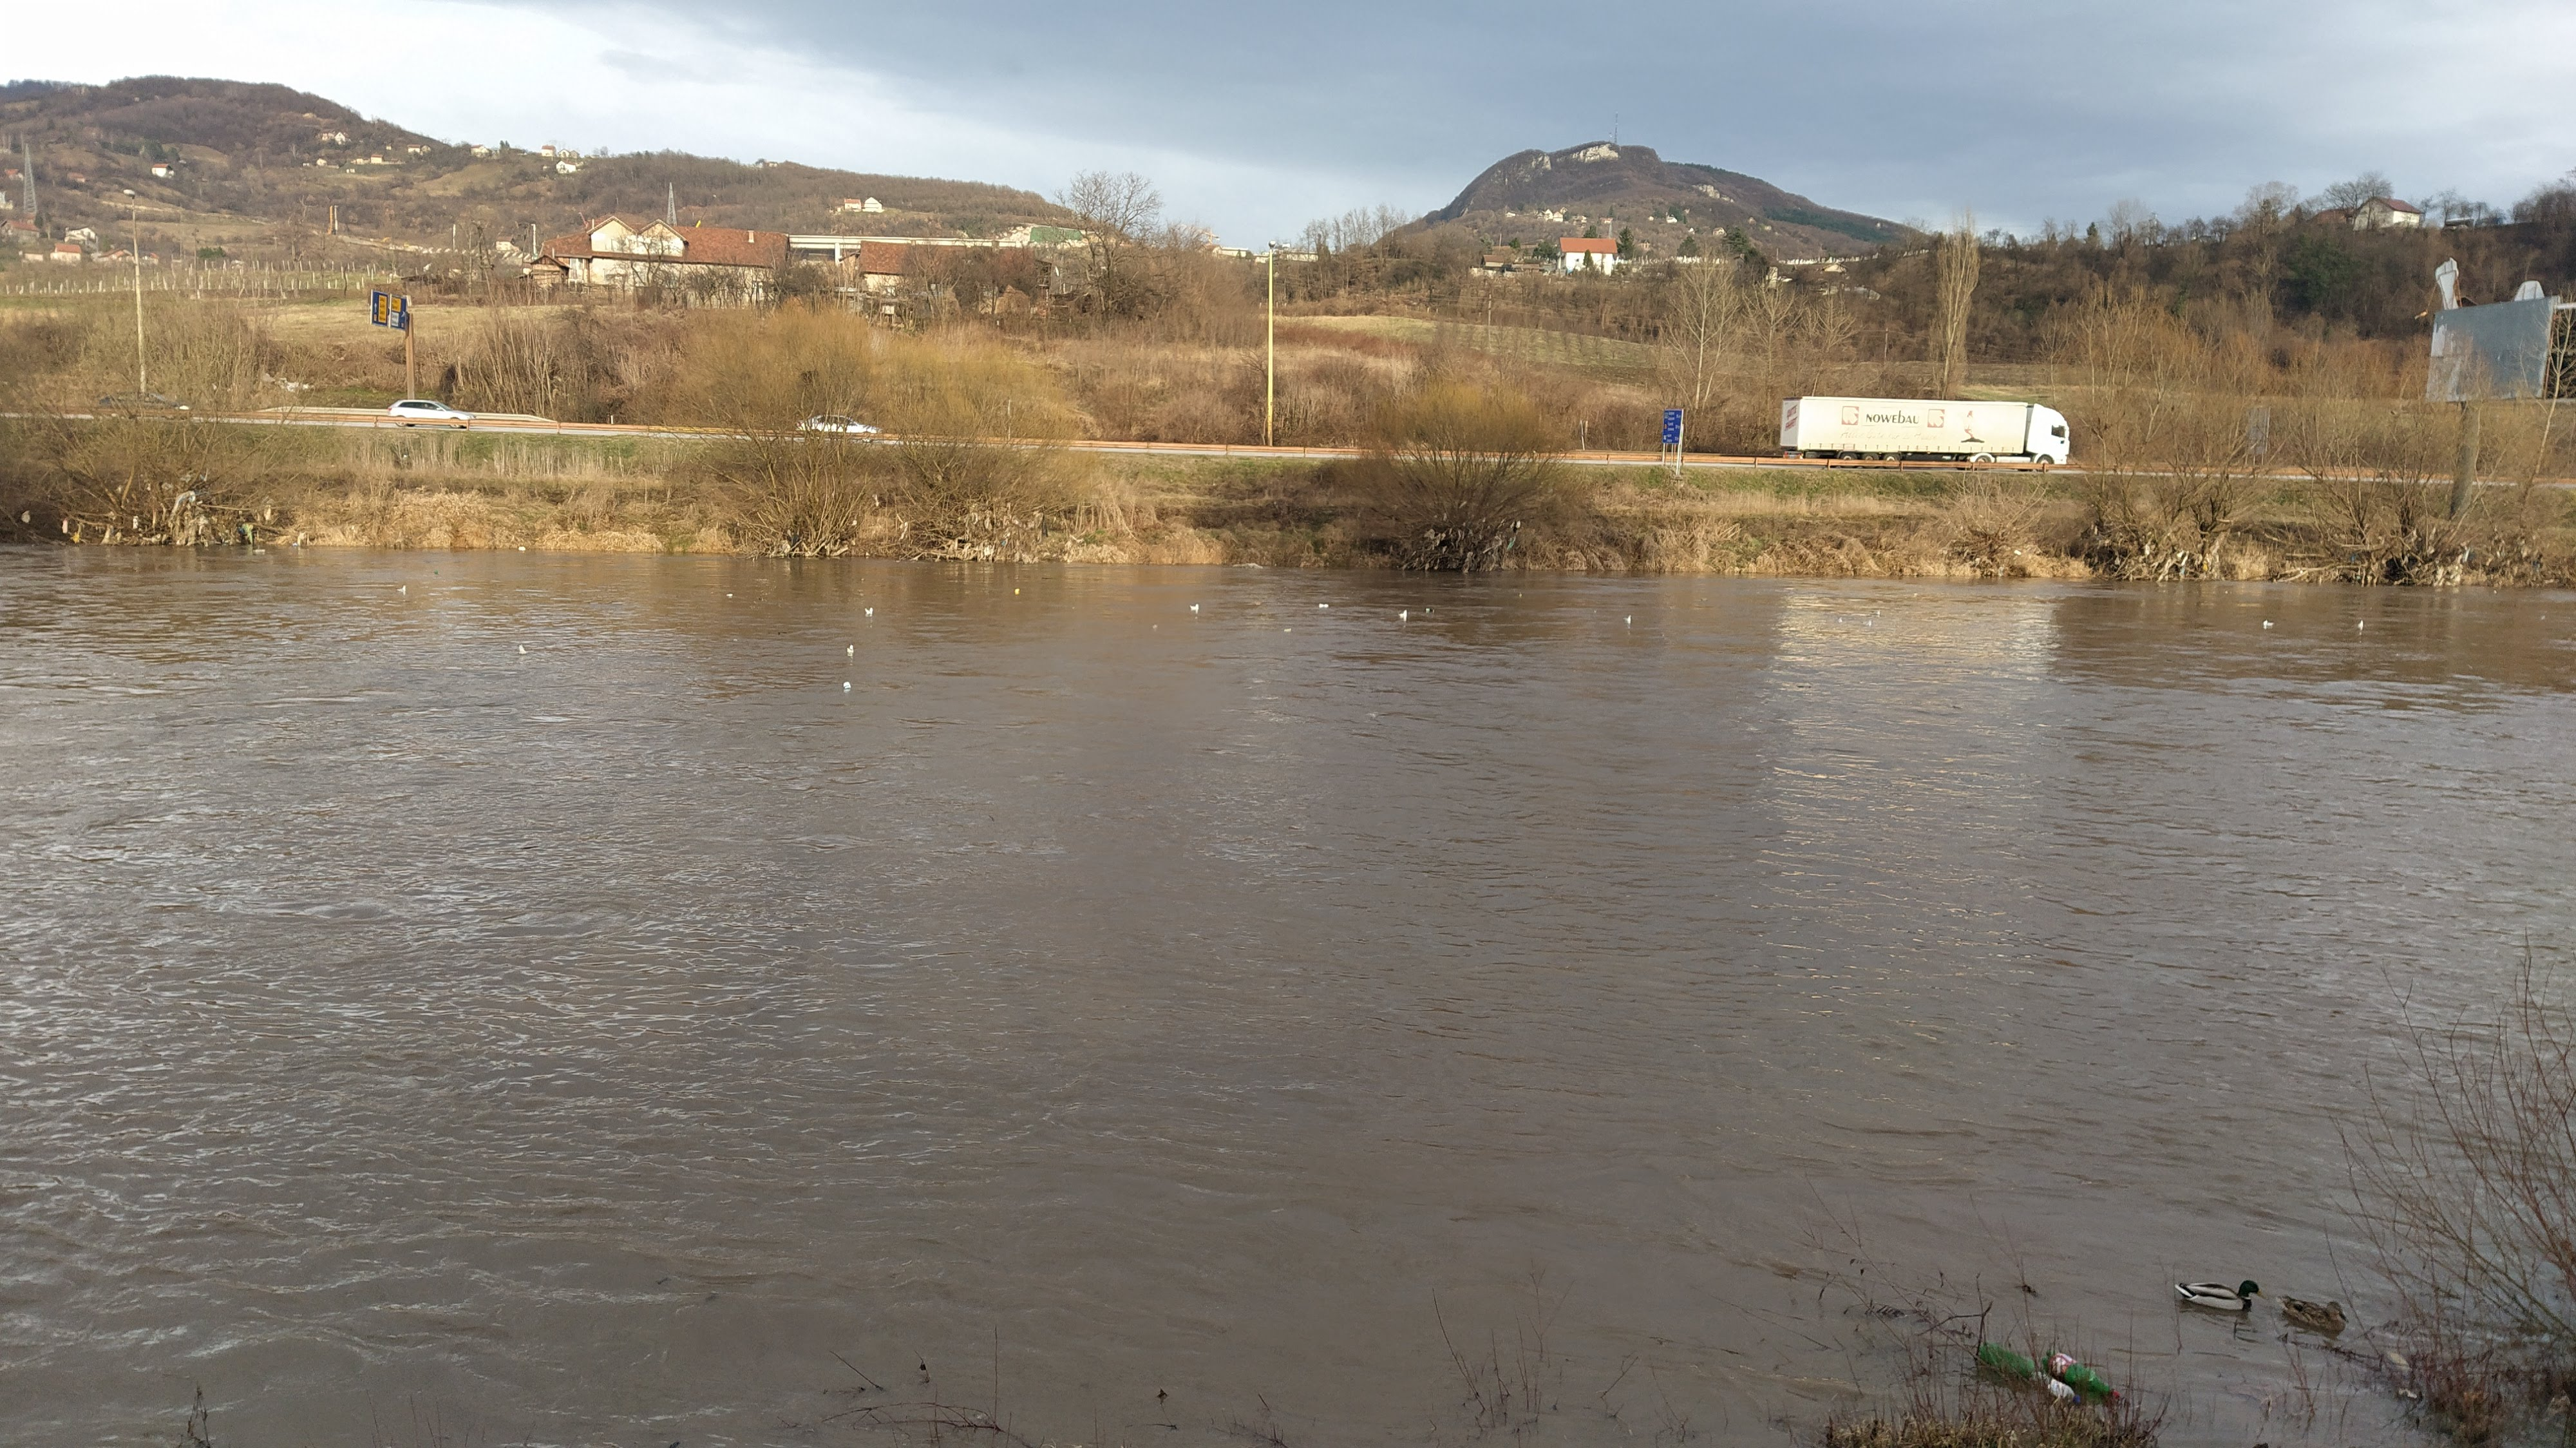Plastic Bottle: (2042, 1349, 2118, 1397), (1976, 1344, 2035, 1379), (2029, 1370, 2077, 1402), (2381, 1351, 2411, 1383), (842, 682, 851, 690), (253, 549, 265, 552), (1318, 604, 1329, 607), (1426, 609, 1433, 612), (433, 568, 437, 572), (1016, 589, 1019, 591)
